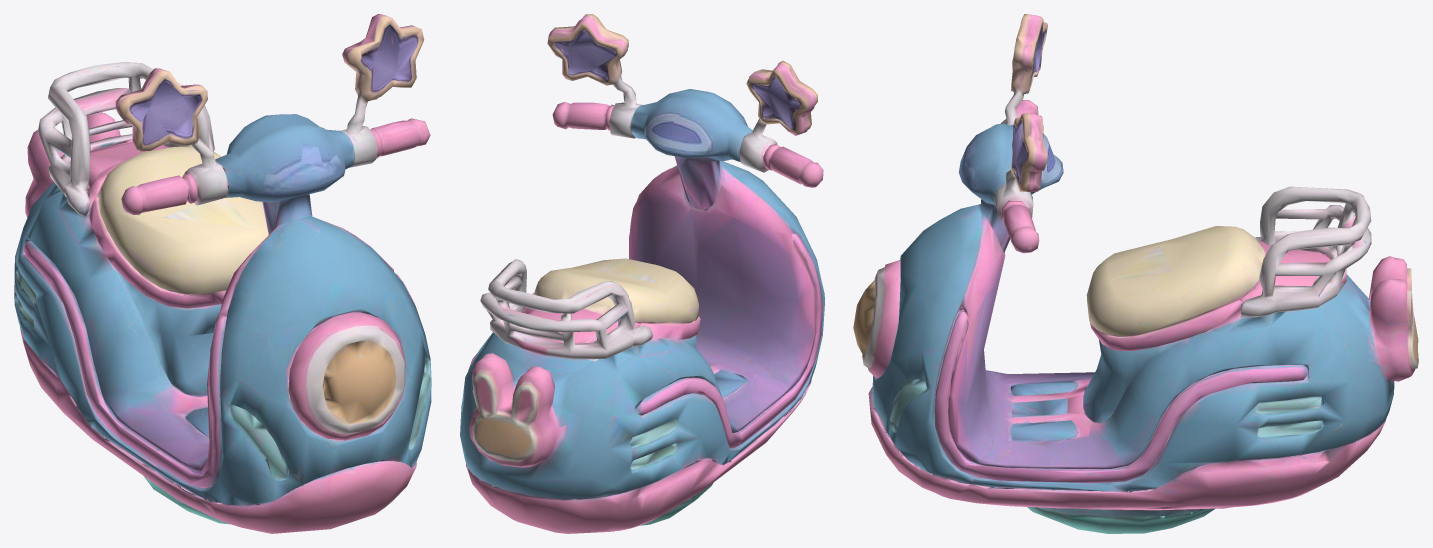
The model's file is scooter.glb.
3 views of the same model, side by side, from view 1: azimuth 30°, elevation 25°; view 2: azimuth 150°, elevation 25°; view 3: azimuth 270°, elevation 25° (orthographic). The views are drawn at different scales.
Parts seen in each view (by area): view 1: V05_hover-scooter; view 2: V05_hover-scooter; view 3: V05_hover-scooter.
Boxes of the visible parts, box(x1,y1,x2,y2) form: V05_hover-scooter: box(14, 14, 431, 533); V05_hover-scooter: box(460, 14, 824, 533); V05_hover-scooter: box(853, 14, 1418, 533).
Bounding box in the file's own units: 0.6343 × 1 × 1.11.
1 material, 1 textured.
